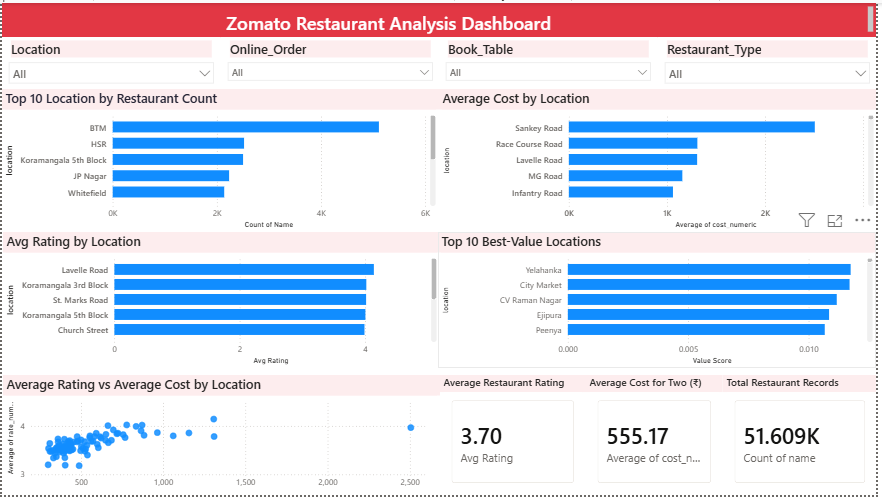

The page's visual inventory and layout, read from the dashboard file:
{"tool":"powerbi","page":{"name":"Page 1","canvas":[1280,720],"ordinal":0},"visuals":[{"type":"clusteredBarChart","title":"Top 10 Location by Restaurant Count","fields":{"Category":["zomato_powerbi_dashboard.location"],"Y":["CountNonNull(zomato_powerbi_dashboard.name)"]},"box":[0,125.9,639.5,209.3],"z":0},{"type":"textbox","box":[0,0,1280,50.4],"z":1000},{"type":"clusteredBarChart","title":"Avg Rating by Location","fields":{"Category":["zomato_powerbi_dashboard.location"],"Y":["zomato_powerbi_dashboard.Avg Rating"]},"box":[1.5,335.1,639.5,199],"z":2000},{"type":"slicer","fields":{"Values":["zomato_powerbi_dashboard.location","zomato_powerbi_dashboard.online_order"]},"box":[0,49.8,320.5,76.1],"z":3000},{"type":"slicer","fields":{"Values":["zomato_powerbi_dashboard.online_order"]},"box":[320.5,49.8,320.5,76.1],"z":4000},{"type":"slicer","fields":{"Values":["zomato_powerbi_dashboard.book_table"]},"box":[639.5,49.8,320.5,76.1],"z":5000},{"type":"slicer","fields":{"Values":["zomato_powerbi_dashboard.rest_type"]},"box":[960,49.8,320.5,76.1],"z":6000},{"type":"clusteredBarChart","title":"Average Cost by Location","fields":{"Category":["zomato_powerbi_dashboard.location"],"Y":["Avg(zomato_powerbi_dashboard.cost_numeric)"]},"box":[639.5,125.9,641,209.3],"z":7000},{"type":"clusteredBarChart","title":"Top 10 Best-Value Locations","fields":{"Y":["zomato_powerbi_dashboard.Value Score"],"Category":["zomato_powerbi_dashboard.location"]},"box":[638,335.1,641,199],"z":8000},{"type":"scatterChart","title":"Average Rating vs Average Cost by Location","fields":{"X":["Avg(zomato_powerbi_dashboard.cost_numeric)"],"Y":["Avg(zomato_powerbi_dashboard.rate_numeric)"],"Category":["zomato_powerbi_dashboard.location"]},"box":[1.5,544.4,639.5,175.6],"z":9000},{"type":"cardVisual","title":"Average Restaurant Rating","fields":{"Data":["zomato_powerbi_dashboard.Avg Rating"]},"box":[641,544.4,213.7,175.6],"z":10000},{"type":"cardVisual","title":"Average Cost for Two (₹)","fields":{"Data":["Avg(zomato_powerbi_dashboard.cost_numeric)"]},"box":[854.6,544.4,200.5,175.6],"z":11000},{"type":"cardVisual","title":"Total Restaurant Records","fields":{"Data":["CountNonNull(zomato_powerbi_dashboard.name)"]},"box":[1055.1,544.4,225.4,175.6],"z":12000}]}

Visuals, with their boxes in screenshot pixels (x1, y1, x2, y2), scaled from the page's 1280x720 canvas onto the 882x501 screenshot:
"Top 10 Location by Restaurant Count" clusteredBarChart: {"left": 0, "top": 88, "right": 441, "bottom": 233}
textbox: {"left": 0, "top": 0, "right": 881, "bottom": 35}
"Avg Rating by Location" clusteredBarChart: {"left": 1, "top": 233, "right": 442, "bottom": 372}
slicer - zomato_powerbi_dashboard.location x zomato_powerbi_dashboard.online_order: {"left": 0, "top": 35, "right": 221, "bottom": 88}
slicer - zomato_powerbi_dashboard.online_order: {"left": 221, "top": 35, "right": 442, "bottom": 88}
slicer - zomato_powerbi_dashboard.book_table: {"left": 441, "top": 35, "right": 662, "bottom": 88}
slicer - zomato_powerbi_dashboard.rest_type: {"left": 662, "top": 35, "right": 881, "bottom": 88}
"Average Cost by Location" clusteredBarChart: {"left": 441, "top": 88, "right": 881, "bottom": 233}
"Top 10 Best-Value Locations" clusteredBarChart: {"left": 440, "top": 233, "right": 881, "bottom": 372}
"Average Rating vs Average Cost by Location" scatterChart: {"left": 1, "top": 379, "right": 442, "bottom": 500}
"Average Restaurant Rating" cardVisual: {"left": 442, "top": 379, "right": 589, "bottom": 500}
"Average Cost for Two (₹)" cardVisual: {"left": 589, "top": 379, "right": 727, "bottom": 500}
"Total Restaurant Records" cardVisual: {"left": 727, "top": 379, "right": 881, "bottom": 500}
